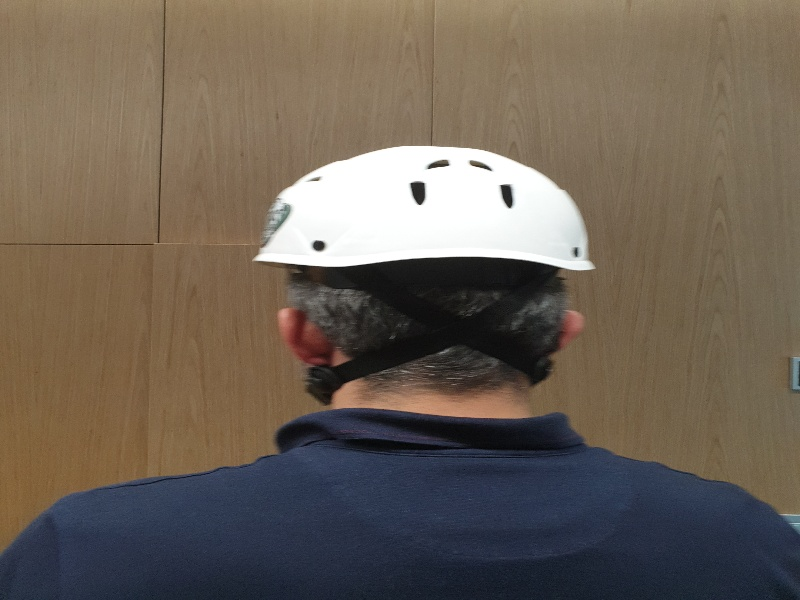Baret: (257, 145, 597, 278)
